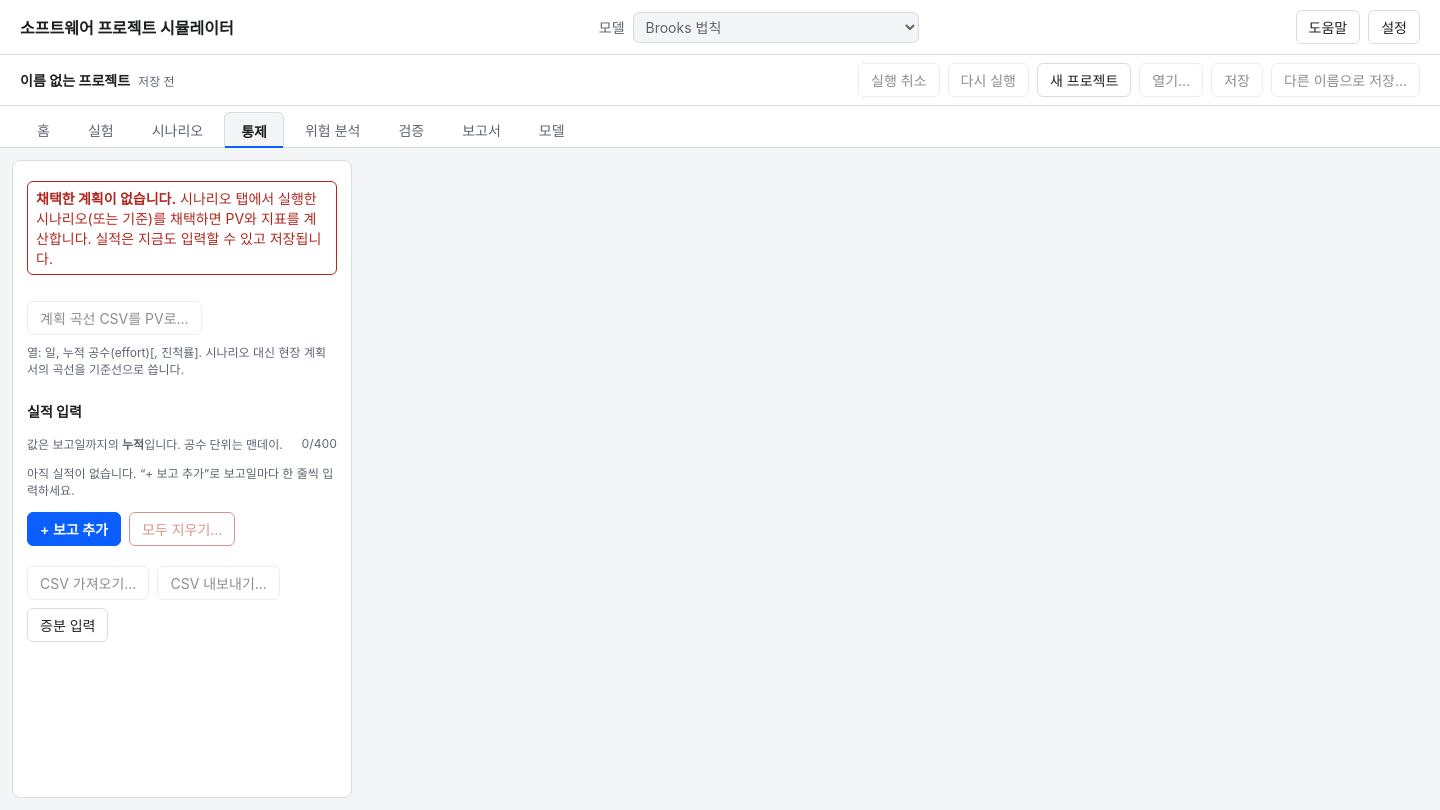
Test: 모든 탭을 그려 본다 (화면 스모크) › 위험 분석 탭이 오류 없이 그려진다
Click the tab "위험 분석" at (333, 130), box [288,112,378,147]
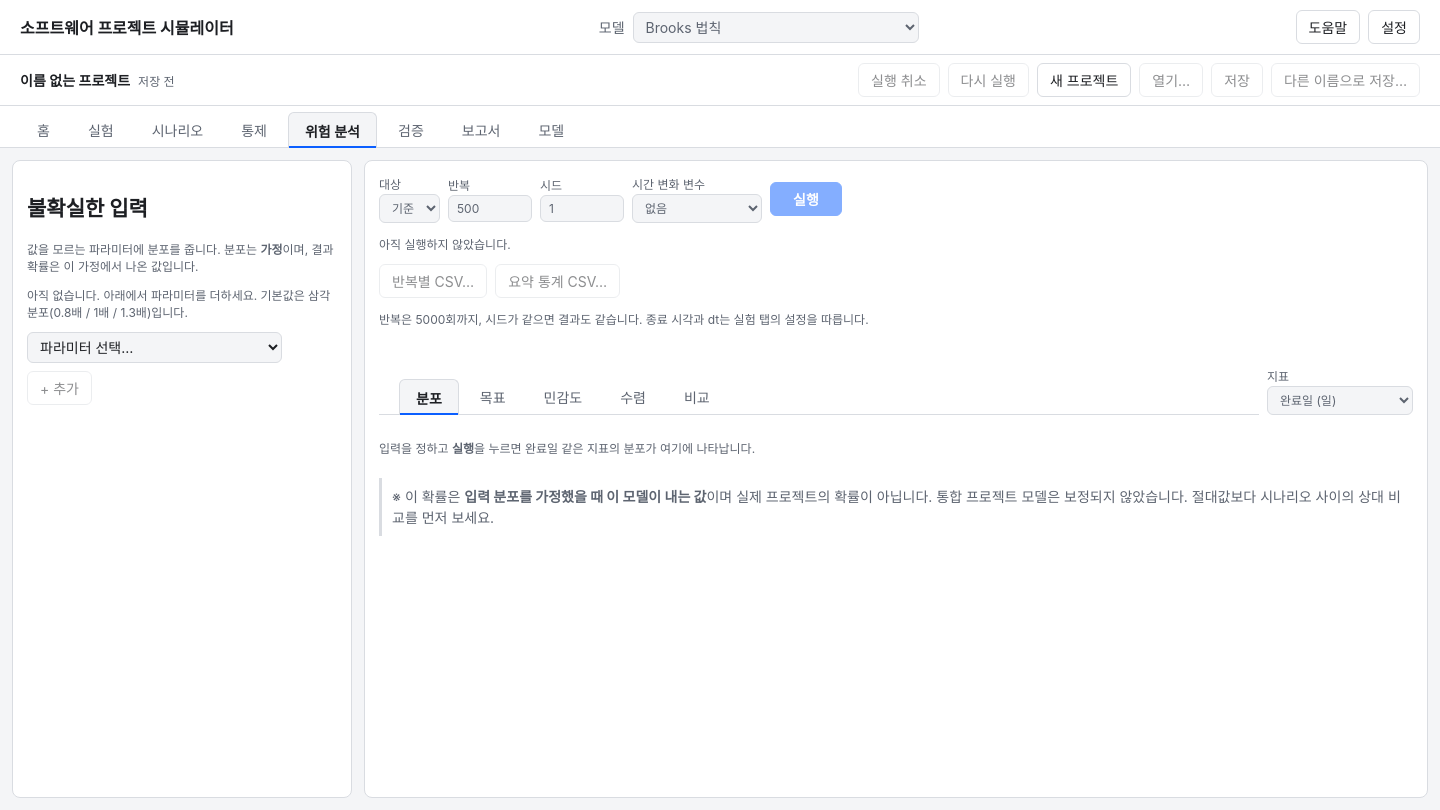
Check: the panel is shown
